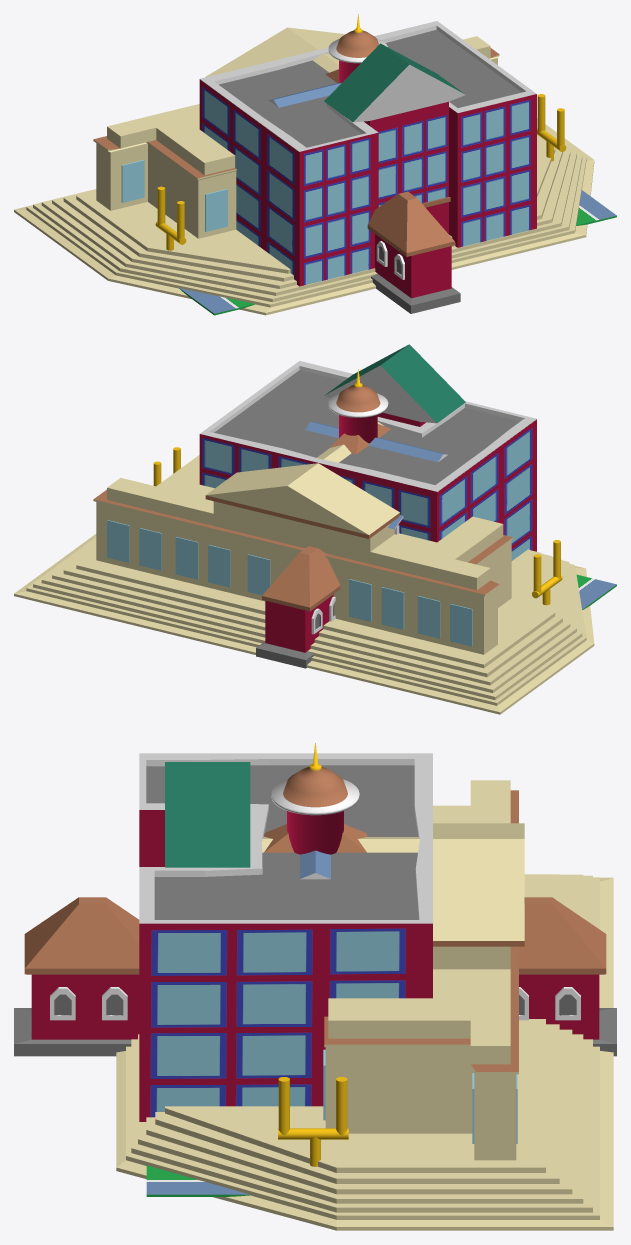
The model's file is buildingPart7.fbx.
3 views of the same model, one above another, from view 1: azimuth 30°, elevation 25°; view 2: azimuth 150°, elevation 25°; view 3: azimuth 270°, elevation 25° (orthographic). The views are drawn at different scales.
Visible parts, largest first — view 1: Cube, Cube.004, Cube.003, Cube.001, Cube.002; view 2: Cube.004, Cube, Cube.003, Cube.001, Cube.002; view 3: Cube.004, Cube, Cube.003, Cube.001, Cube.002.
Boxes of the visible parts, x1,y1,x2,y2 form: Cube: (199, 21, 536, 286); Cube.004: (14, 27, 594, 315); Cube.003: (325, 14, 460, 313); Cube.001: (155, 94, 616, 315); Cube.002: (268, 83, 341, 107); Cube.004: (14, 422, 594, 714); Cube: (199, 344, 536, 560); Cube.003: (256, 369, 390, 668); Cube.001: (153, 447, 616, 609); Cube.002: (305, 422, 447, 534); Cube.004: (116, 780, 613, 1230); Cube: (139, 753, 432, 1121); Cube.003: (14, 743, 616, 1056); Cube.001: (146, 1077, 348, 1196); Cube.002: (300, 850, 330, 879).
Bounding box in the file's own units: 2296 × 962 × 1675.
Materials: 1 (1 with a texture image).
